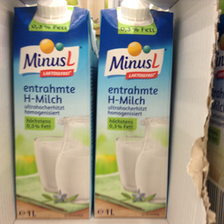milk: (92, 1, 173, 221), (12, 1, 92, 219)
